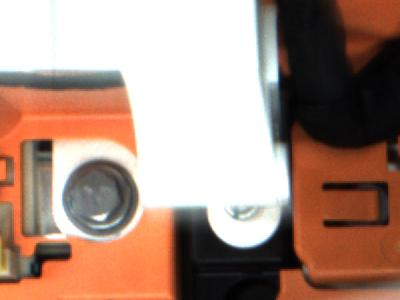nut_b: (57, 156, 147, 241)
